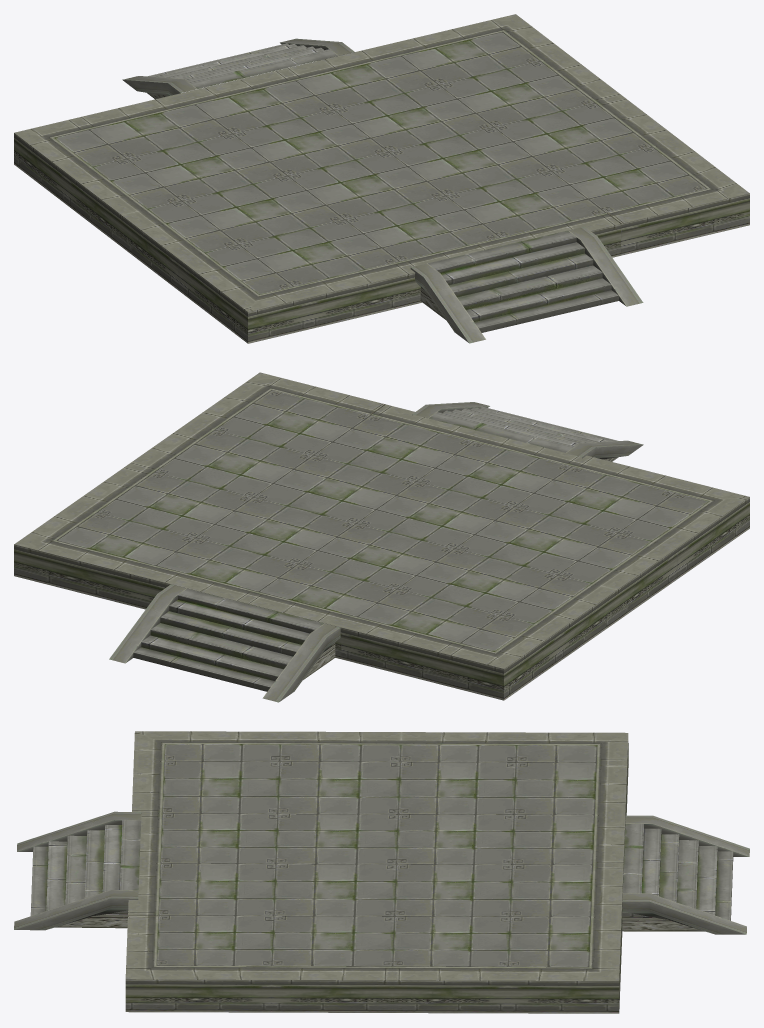
File: Yland3_tzi_01 Yland3.FBX
The picture shows the model from 3 angles, top to bottom: view 1: azimuth 30°, elevation 25°; view 2: azimuth 150°, elevation 25°; view 3: azimuth 270°, elevation 25°; orthographic projection. The views are drawn at different scales.
Visible parts, largest first — view 1: Yland3_tzi_01 Yland3; view 2: Yland3_tzi_01 Yland3; view 3: Yland3_tzi_01 Yland3.
Part boxes in pixels (x1,y1,x2,y2): Yland3_tzi_01 Yland3: [14, 14, 749, 343]; Yland3_tzi_01 Yland3: [14, 372, 749, 702]; Yland3_tzi_01 Yland3: [14, 731, 749, 1013].
Bounding box in the file's own units: 14.44 × 0.9326 × 17.81.
